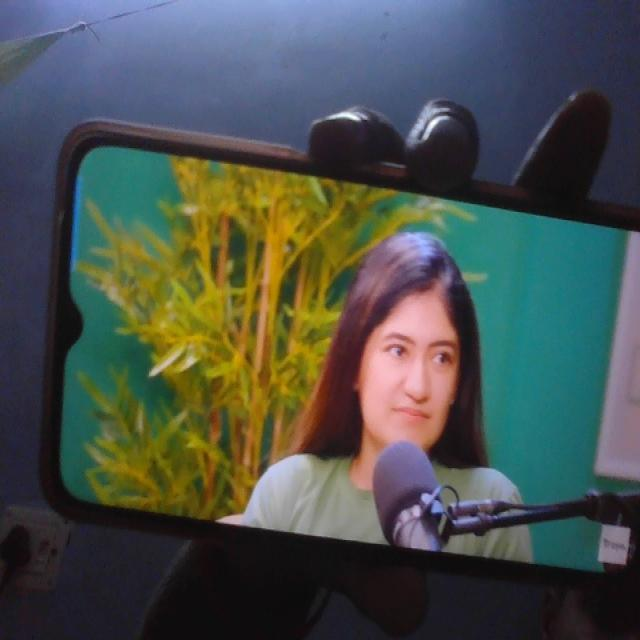fake: (345, 225, 467, 456)
